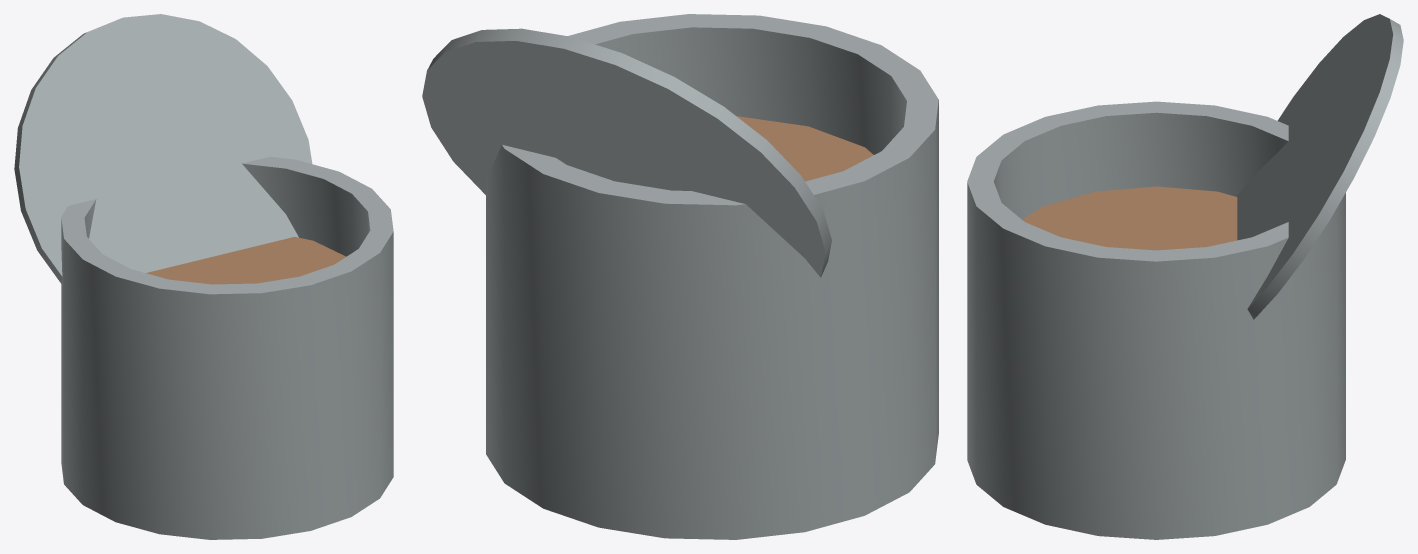
File: survival-food-and-preservation-opened-ration-tin-46f63dca__21786.glb
3 views of the same model, side by side, from view 1: azimuth 30°, elevation 25°; view 2: azimuth 150°, elevation 25°; view 3: azimuth 270°, elevation 25° (orthographic). The views are drawn at different scales.
Visible parts, largest first — view 1: opened-ration-tin; view 2: opened-ration-tin; view 3: opened-ration-tin.
Boxes of the visible parts, left/top/right/bottom form: opened-ration-tin: left=14, top=14, right=393, bottom=539; opened-ration-tin: left=422, top=14, right=938, bottom=539; opened-ration-tin: left=967, top=14, right=1403, bottom=539.
Bounding box in the file's own units: 0.09 × 0.1116 × 0.1038.
